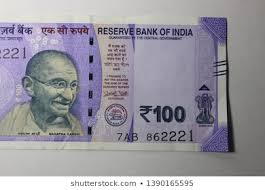hundred: (4, 41, 203, 129)
